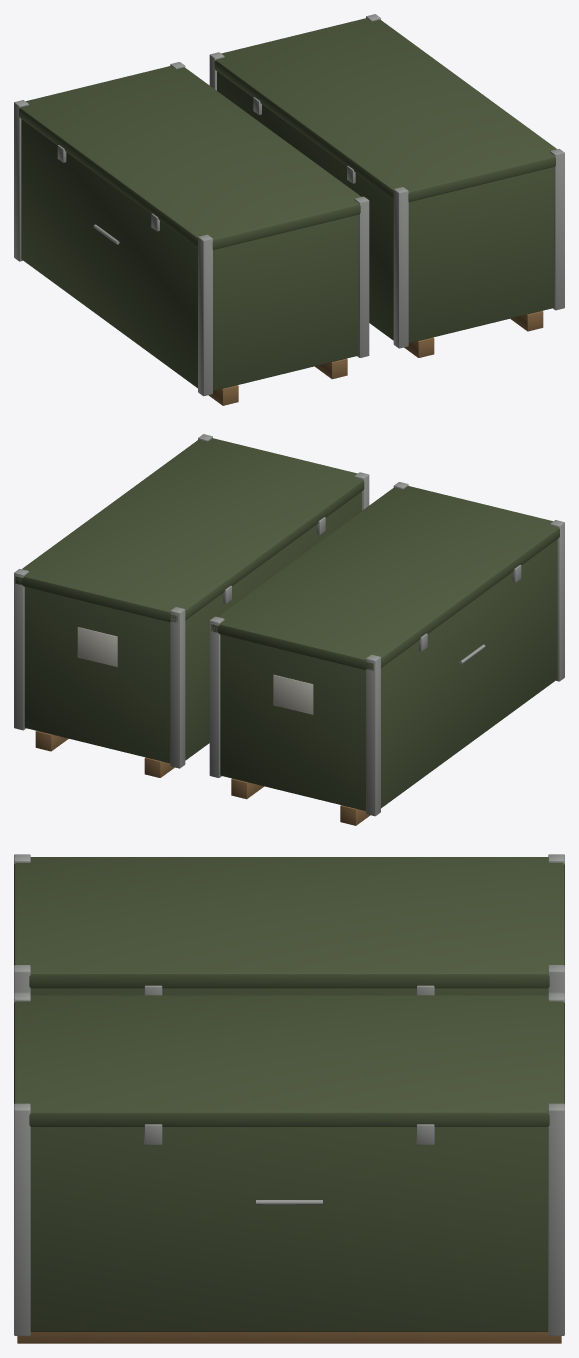
The model's file is series-4-stowed.glb.
3 views of the same model, one above another, from view 1: azimuth 30°, elevation 25°; view 2: azimuth 150°, elevation 25°; view 3: azimuth 270°, elevation 25° (orthographic). The views are drawn at different scales.
Visible parts, largest first — view 1: SERIES4_packed; view 2: SERIES4_packed; view 3: SERIES4_packed.
Boxes of the visible parts, bbox=[...] form: SERIES4_packed: bbox=[14, 14, 564, 405]; SERIES4_packed: bbox=[14, 434, 564, 825]; SERIES4_packed: bbox=[14, 854, 564, 1343].
Size of the model in its own units: 2.77 by 1.23 by 2.47.
